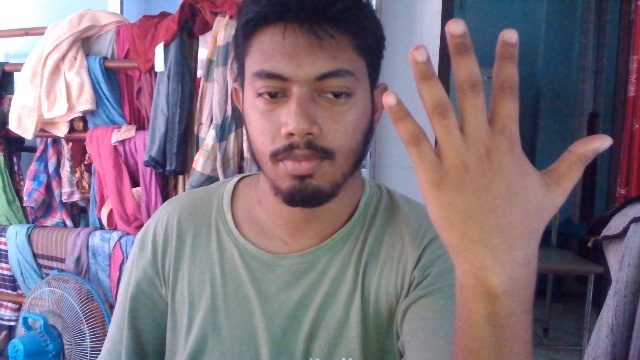hello: (381, 15, 614, 264)
